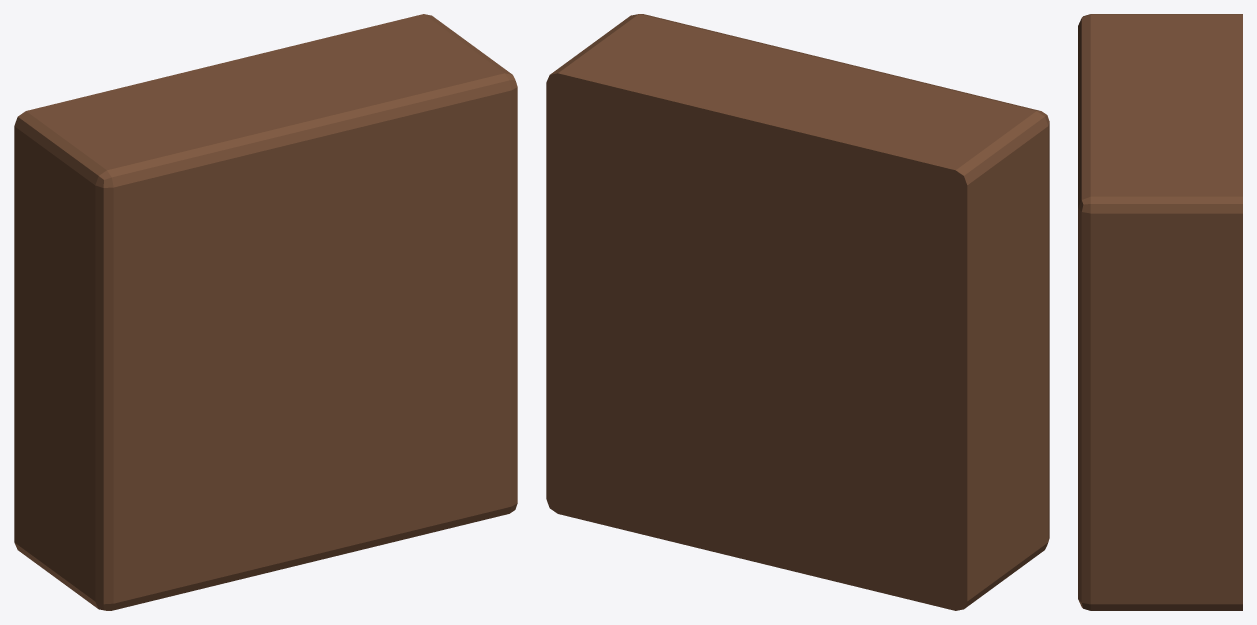
File: cm_cap4.glb
3 views of the same model, side by side, from view 1: azimuth 30°, elevation 25°; view 2: azimuth 150°, elevation 25°; view 3: azimuth 270°, elevation 25° (orthographic). The views are drawn at different scales.
Parts seen in each view (by area): view 1: Cube.053; view 2: Cube.053; view 3: Cube.053.
Boxes of the visible parts, <box> form: Cube.053: <box>14,14,517,610</box>; Cube.053: <box>546,14,1049,610</box>; Cube.053: <box>1078,14,1242,610</box>.
Bounding box in the file's own units: 18 × 18 × 6.5.
